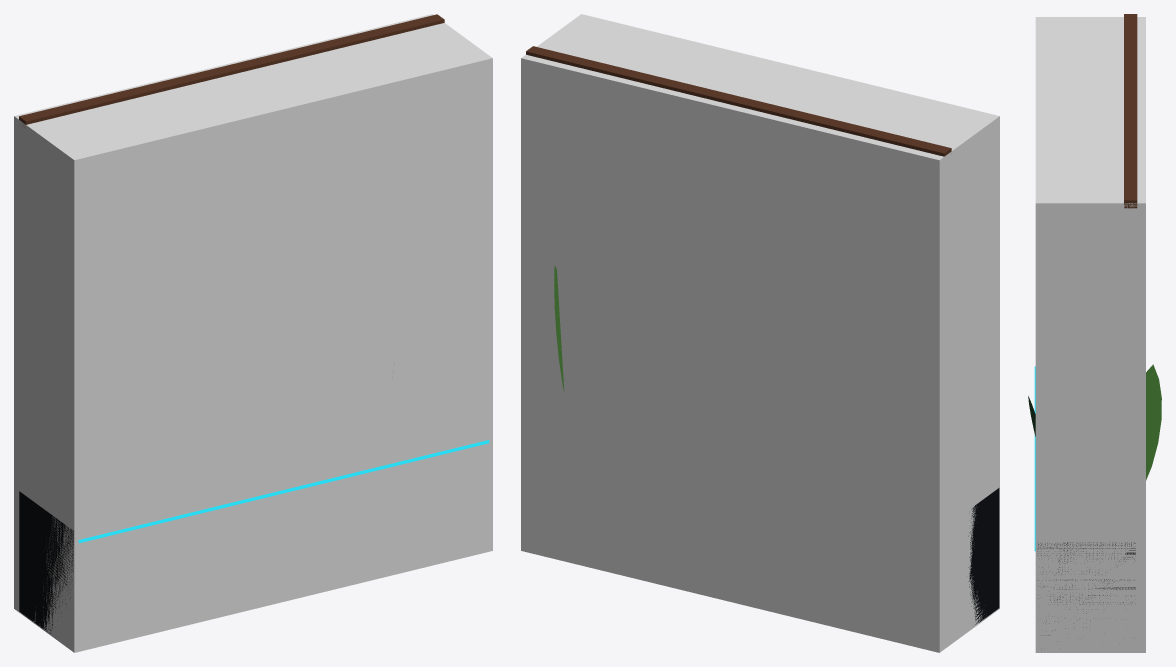
File: Furn_Divider_Planter.gltf
3 renders of one model, left to right at view 1: azimuth 30°, elevation 25°; view 2: azimuth 150°, elevation 25°; view 3: azimuth 270°, elevation 25°, orthographic. The views are drawn at different scales.
Parts seen in each view (by area): view 1: Furn_Divider_Planter_COL, Furn_Divider_Planter; view 2: Furn_Divider_Planter_COL, Furn_Divider_Planter; view 3: Furn_Divider_Planter_COL, Furn_Divider_Planter.
Boxes of the visible parts, left/top/right/bottom form: Furn_Divider_Planter_COL: left=14, top=14, right=492, bottom=652; Furn_Divider_Planter: left=19, top=14, right=489, bottom=633; Furn_Divider_Planter_COL: left=521, top=14, right=999, bottom=652; Furn_Divider_Planter: left=526, top=46, right=999, bottom=624; Furn_Divider_Planter_COL: left=1035, top=17, right=1145, bottom=652; Furn_Divider_Planter: left=1028, top=14, right=1161, bottom=635.
Bounding box in the file's own units: 2 × 2.27 × 0.6065.
